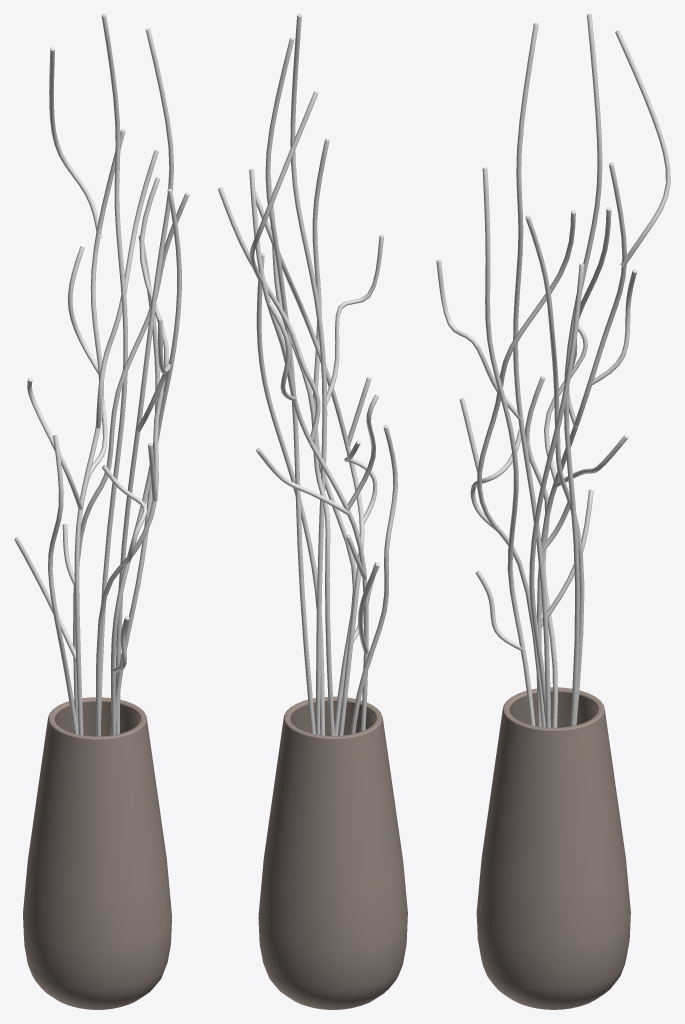
File: Decor.fbx
3 renders of one model, left to right at view 1: azimuth 30°, elevation 25°; view 2: azimuth 150°, elevation 25°; view 3: azimuth 270°, elevation 25°, orthographic. The views are drawn at different scales.
Parts seen in each view (by area): view 1: Decor; view 2: Decor; view 3: Decor.
Boxes of the visible parts, x1,y1,x2,y2 form: Decor: (14, 14, 189, 1009); Decor: (218, 14, 407, 1009); Decor: (436, 14, 670, 1009).
Bounding box in the file's own units: 28.97 × 174 × 37.32.
